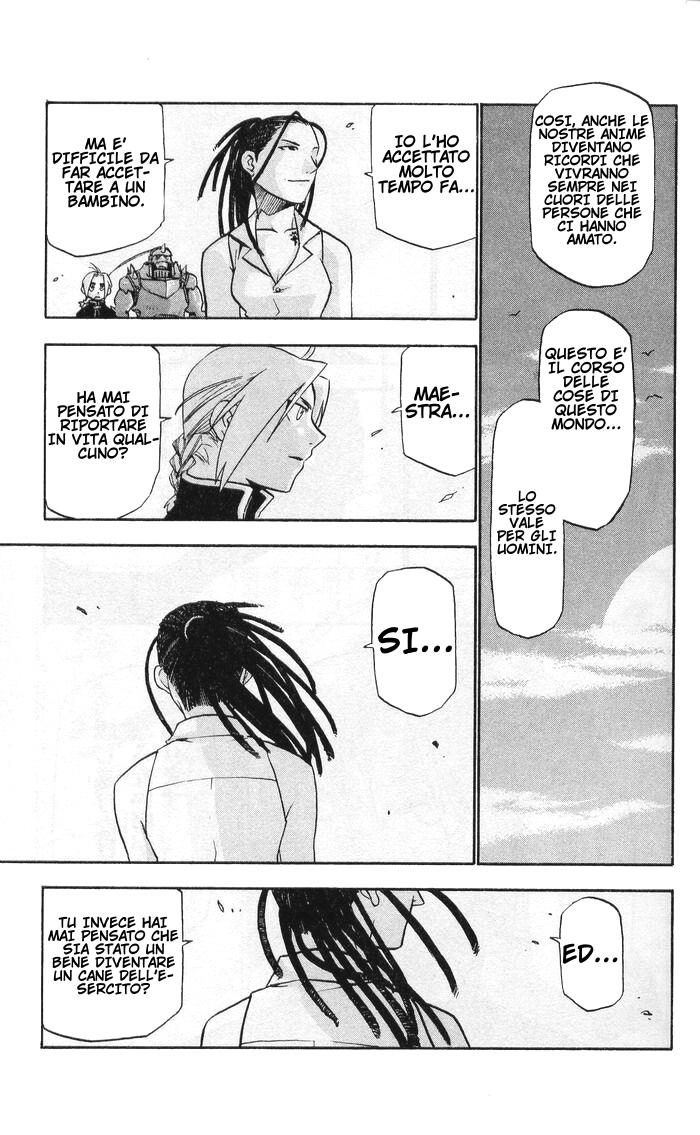Baloon: (491, 308, 636, 632), (529, 84, 653, 286), (38, 880, 190, 1041), (43, 344, 159, 518), (43, 101, 171, 258), (364, 103, 474, 253), (369, 568, 457, 718), (398, 346, 479, 479), (555, 898, 622, 1015)
Vignetta: (478, 105, 679, 868), (3, 546, 474, 860), (43, 889, 672, 1049), (45, 101, 479, 322), (47, 346, 478, 522)
